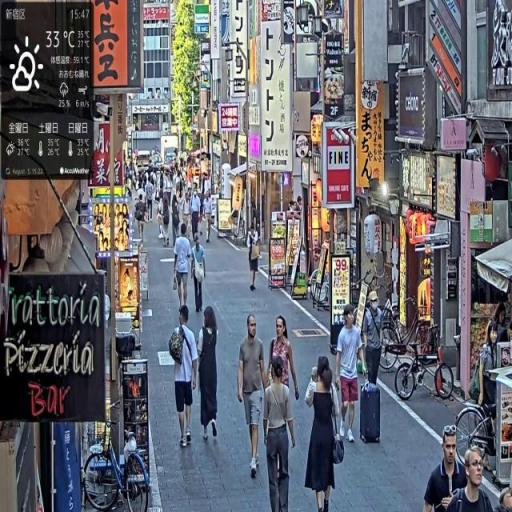person: (305, 354, 345, 512), (238, 313, 271, 479), (264, 356, 297, 512), (335, 304, 366, 450), (422, 422, 470, 512), (171, 304, 200, 449), (197, 306, 221, 444), (361, 293, 385, 391), (174, 224, 194, 314), (193, 232, 208, 315), (248, 223, 263, 294), (203, 190, 215, 246)
